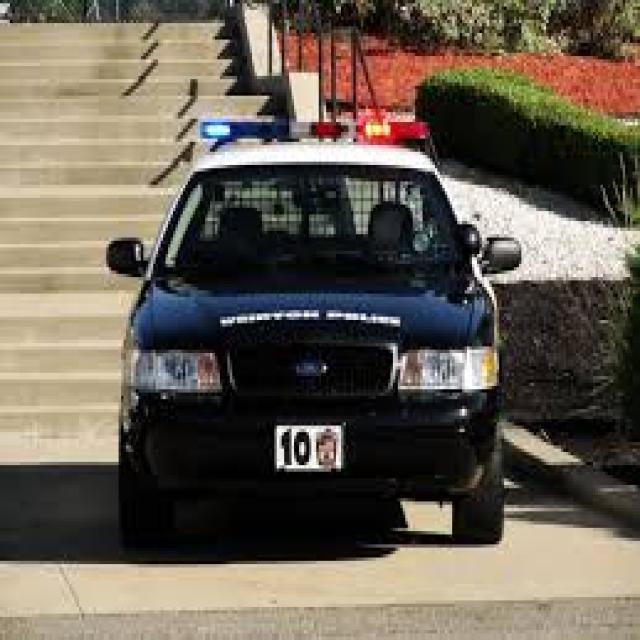Police: (100, 102, 522, 573)
